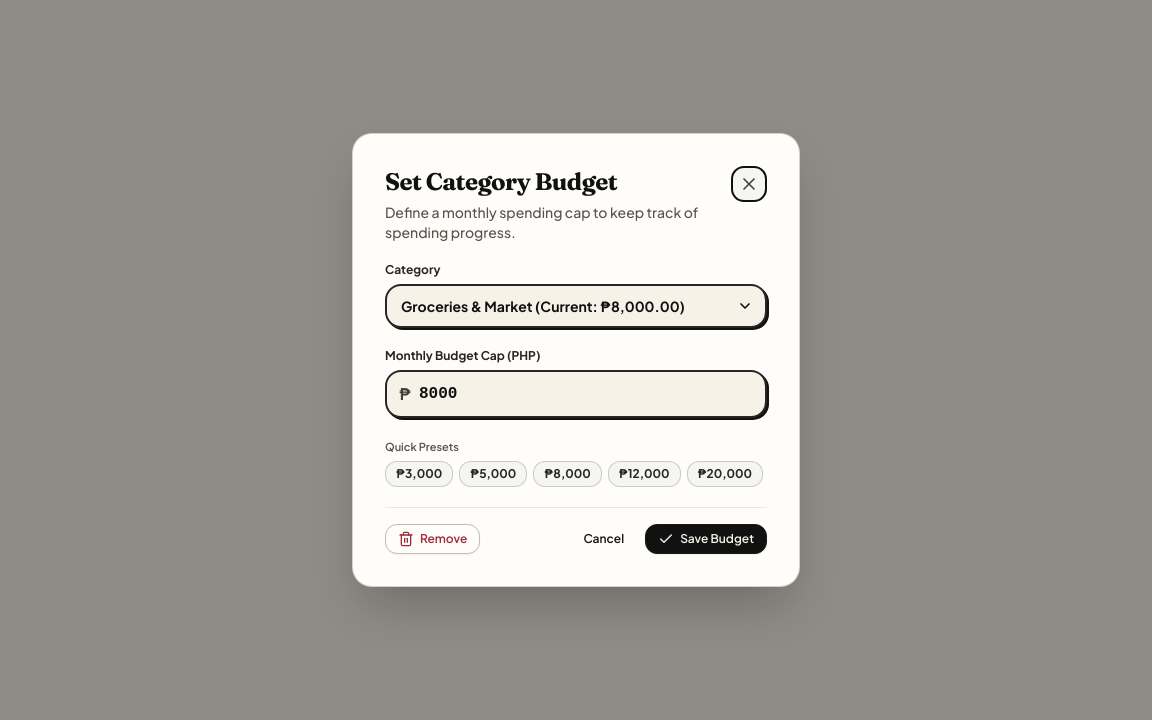
Test: BudgetFormModal Component (TDD) › switches category and syncs input value when category selection changes
Note: Switch to Dining (4000)
Select "Food & Dining (Current: ₱4,000.00)" in the dropdown with test id "budget-category-select" at (576, 306), box [385,284,767,328]
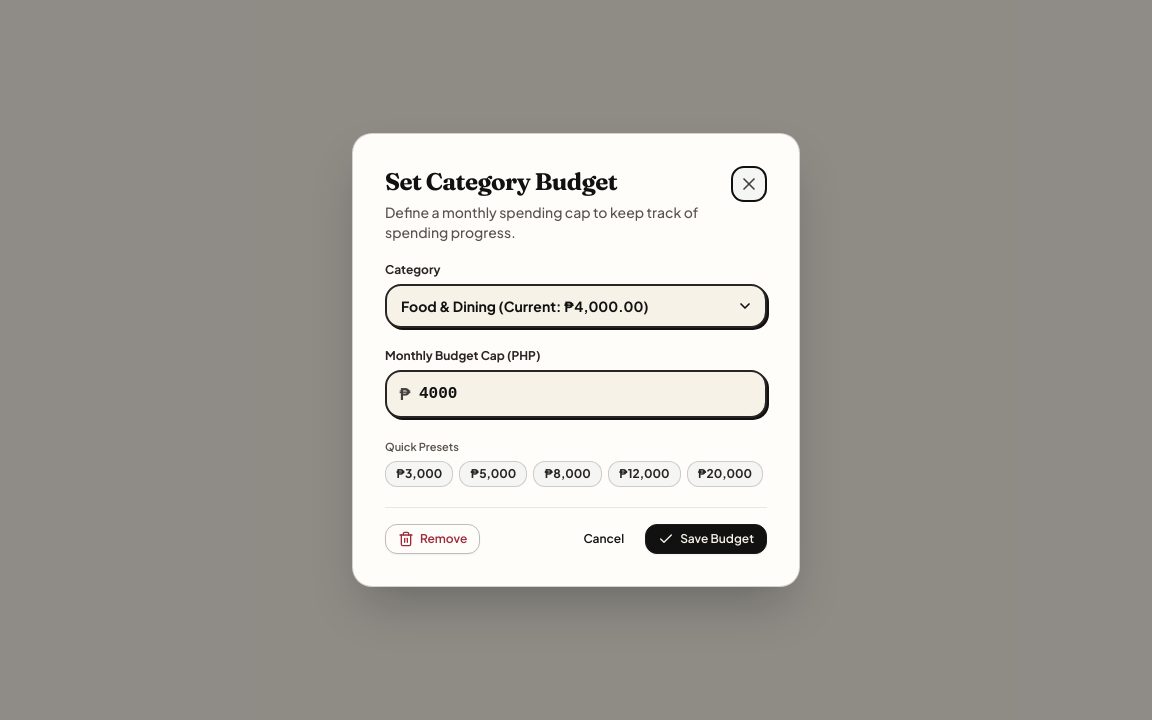
Expected: the button with test id "remove-budget-btn" is shown, [385,524,480,554]
Now the number field with test id "budget-limit-input" holds "4000", box [385,370,767,418]
Note: Switch to Transport (no budget limit)
Select "Transportation" in the dropdown with test id "budget-category-select" at (576, 306), box [385,284,767,328]
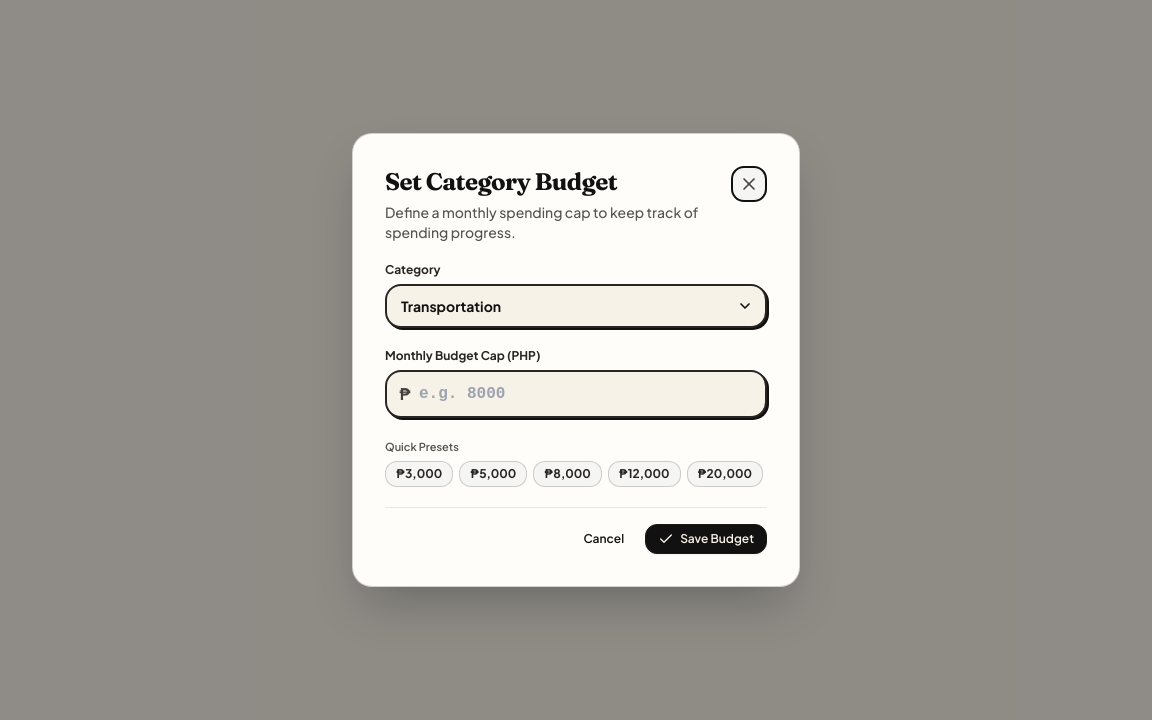
Now the number field with test id "budget-limit-input" is empty, box [385,370,767,418]
Now the button with test id "remove-budget-btn" is gone
